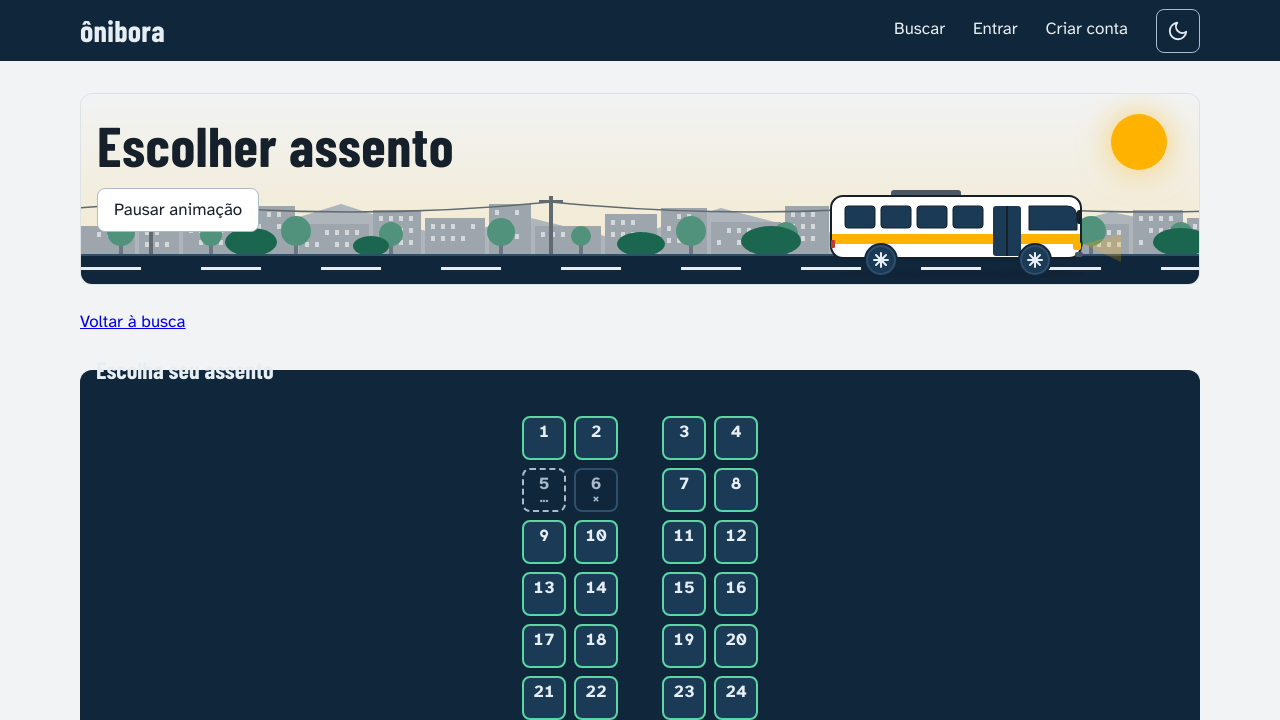
Test: TripPage › escolher um assento livre o marca e diz qual é
Click the radio button named "Assento 7, livre" at (684, 490), box top-left (662, 468), bottom-right (706, 512)
(page scrolled)
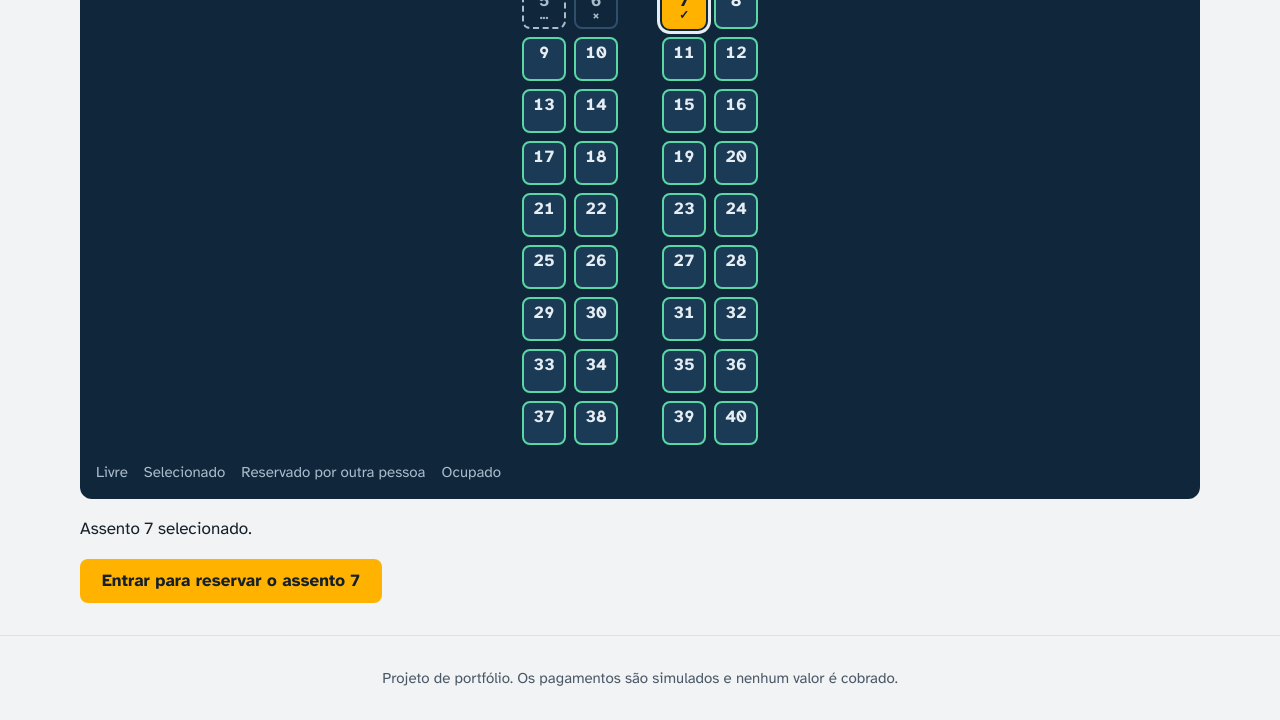
Check: the text "Assento 7 selecionado." is shown, box top-left (80, 518), bottom-right (252, 539)
